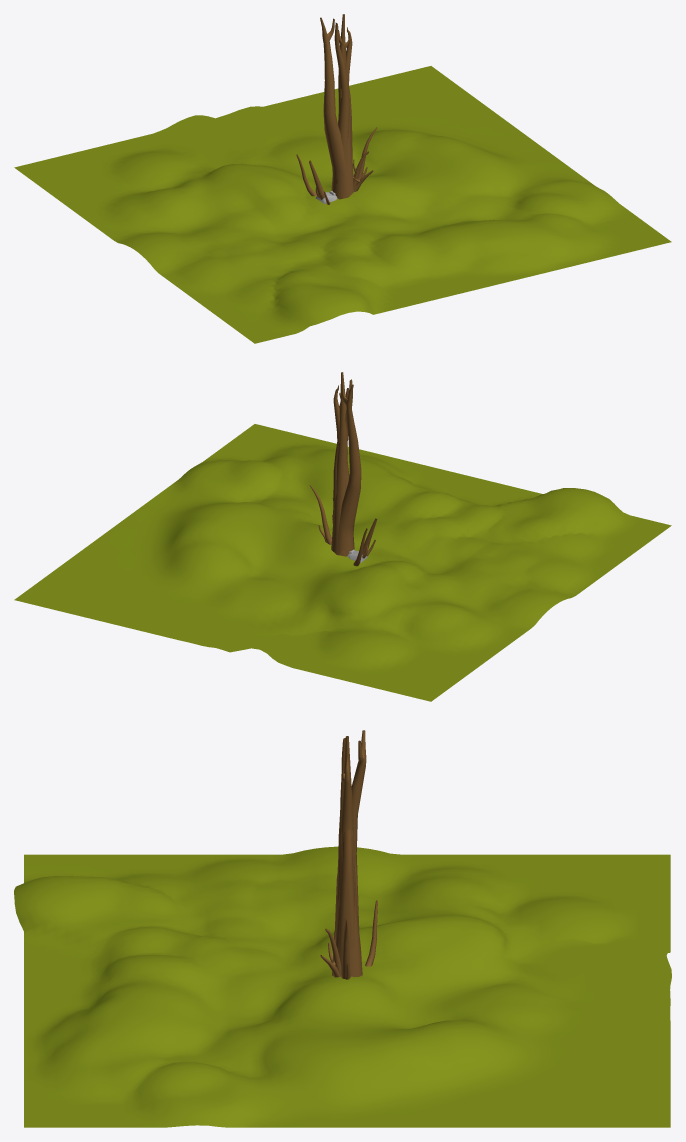
Rendered from WG_BGProps.fbx.
3 views of the same model, one above another, from view 1: azimuth 30°, elevation 25°; view 2: azimuth 150°, elevation 25°; view 3: azimuth 270°, elevation 25° (orthographic). The views are drawn at different scales.
Parts seen in each view (by area): view 1: BGProps_WG_Terrain, BGProps_WG_Tree02, BGProps_WG_Tree01, BGProps_WG_Tree04; view 2: BGProps_WG_Terrain, BGProps_WG_Tree02, BGProps_WG_Tree04; view 3: BGProps_WG_Terrain, BGProps_WG_Tree05, BGProps_WG_Tree04, BGProps_WG_Tree02, BGProps_WG_Tree03.
Boxes of the visible parts, x1,y1,x2,y2 form: BGProps_WG_Terrain: (14, 66, 671, 343); BGProps_WG_Tree02: (320, 17, 348, 199); BGProps_WG_Tree01: (334, 22, 349, 199); BGProps_WG_Tree04: (338, 14, 353, 198); BGProps_WG_Terrain: (14, 424, 671, 701); BGProps_WG_Tree02: (337, 383, 361, 556); BGProps_WG_Tree04: (331, 372, 347, 556); BGProps_WG_Terrain: (14, 846, 671, 1127); BGProps_WG_Tree05: (339, 769, 354, 954); BGProps_WG_Tree04: (332, 736, 362, 976); BGProps_WG_Tree02: (332, 730, 366, 972); BGProps_WG_Tree03: (339, 757, 353, 919).
Size of the model in its own units: 15276 by 6913 by 15550.
